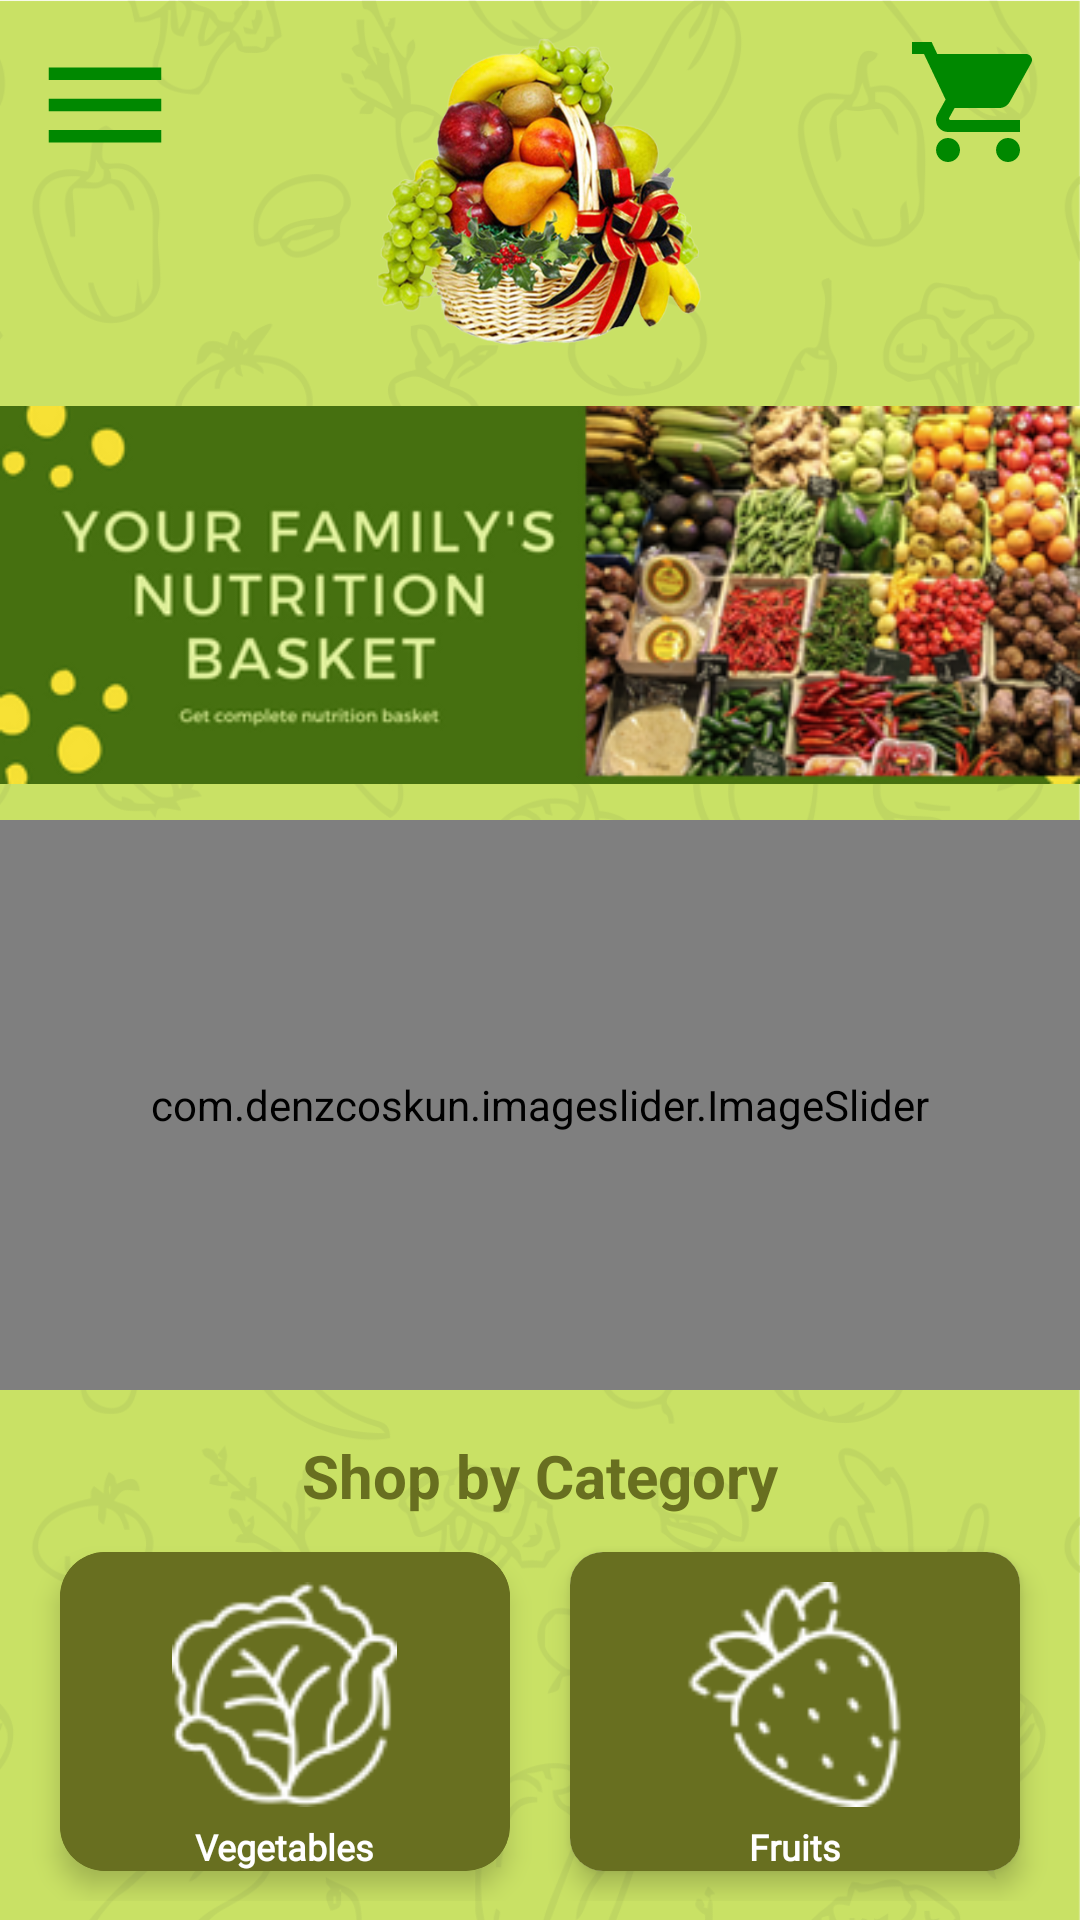

Where icons sit on this 1080 × 1920 app screen, as (x1, y1, x2, y2):
cabbage: (172, 1582, 397, 1807)
menu: (48, 67, 162, 143)
shopping cart: (912, 42, 1032, 162)
strawberry: (688, 1582, 901, 1807)
